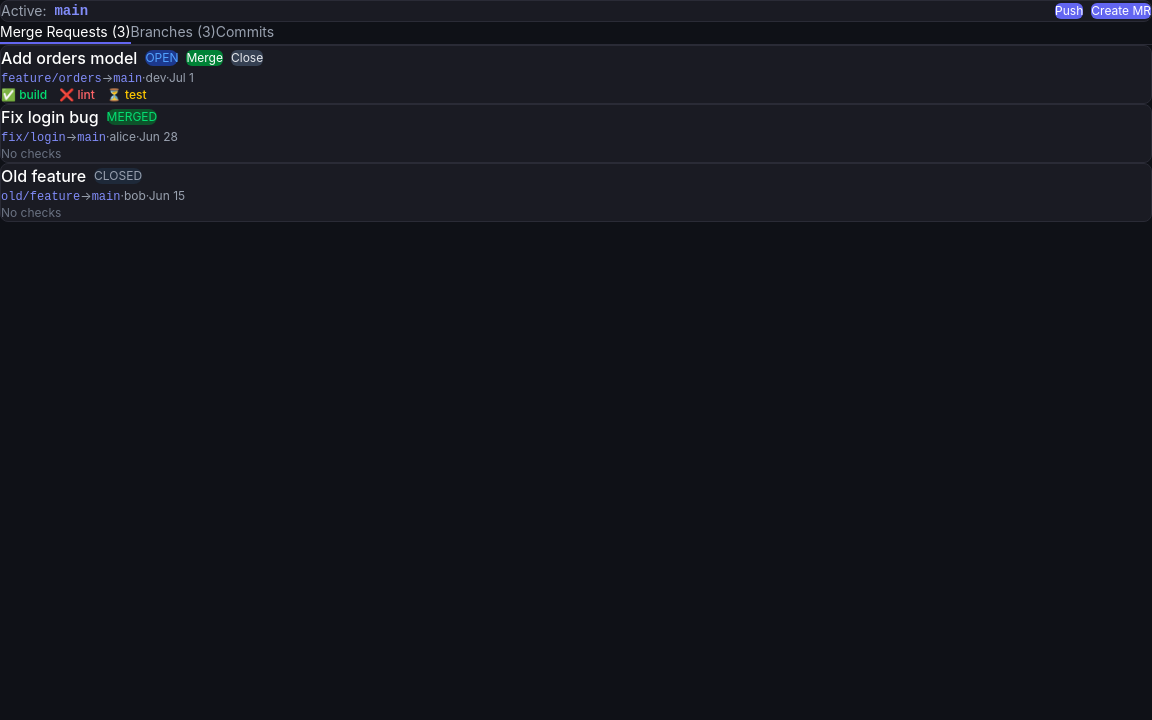
Test: GitPage › closes modal when Cancel is clicked
Step 1. Click the button "Create MR" → (1121, 11), box [1091,3,1151,19]
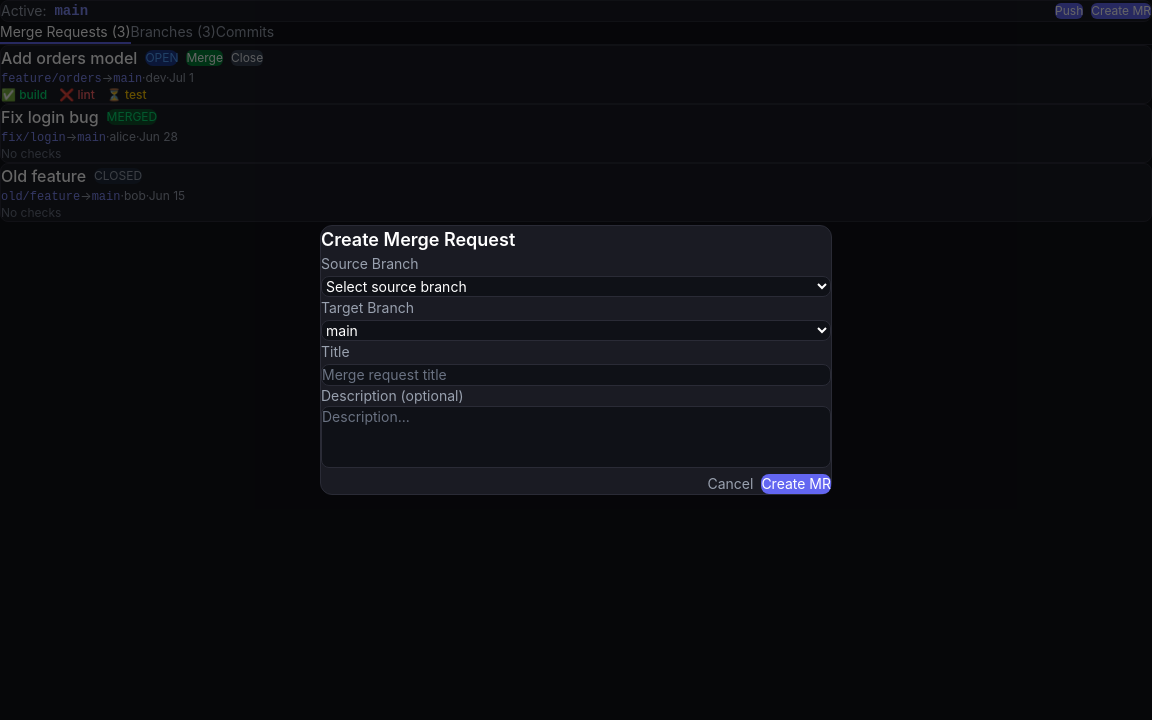
expect the heading "Create Merge Request" is shown: met, box [321,229,515,250]
Step 2. Click the button "Cancel" → (730, 484), box [708,474,753,494]
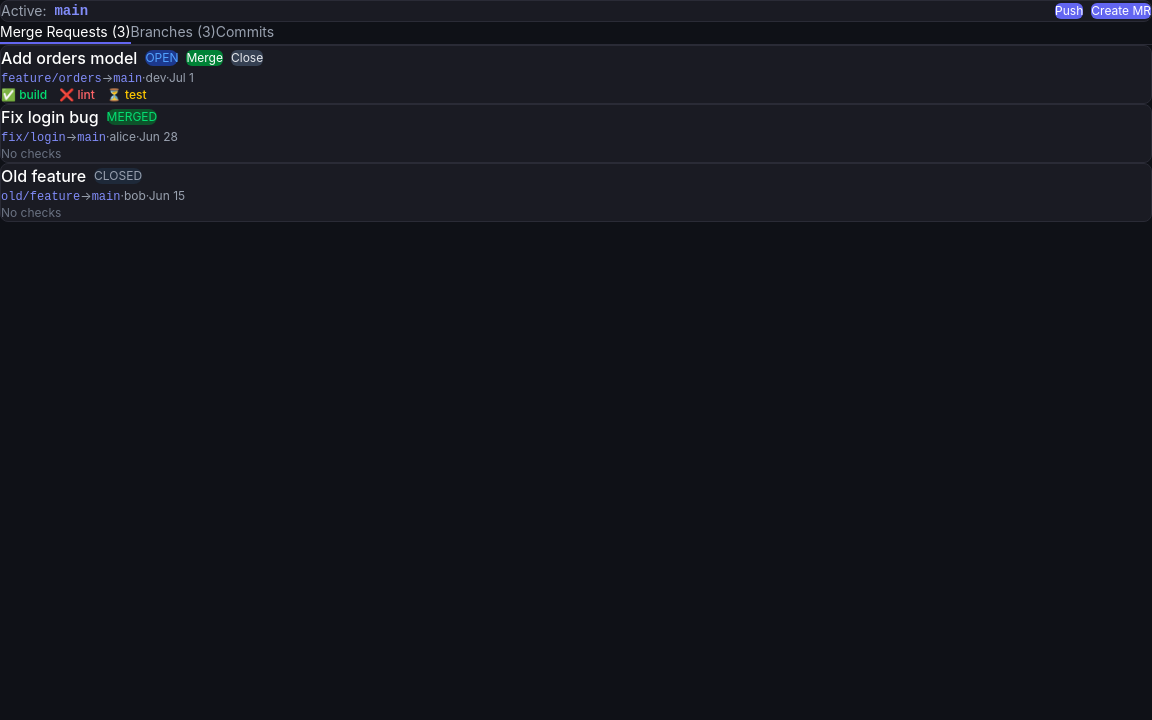
expect the heading "Create Merge Request" is gone: met
